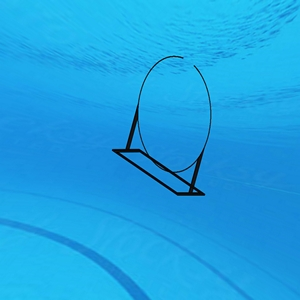circle: (109, 53, 212, 204)
